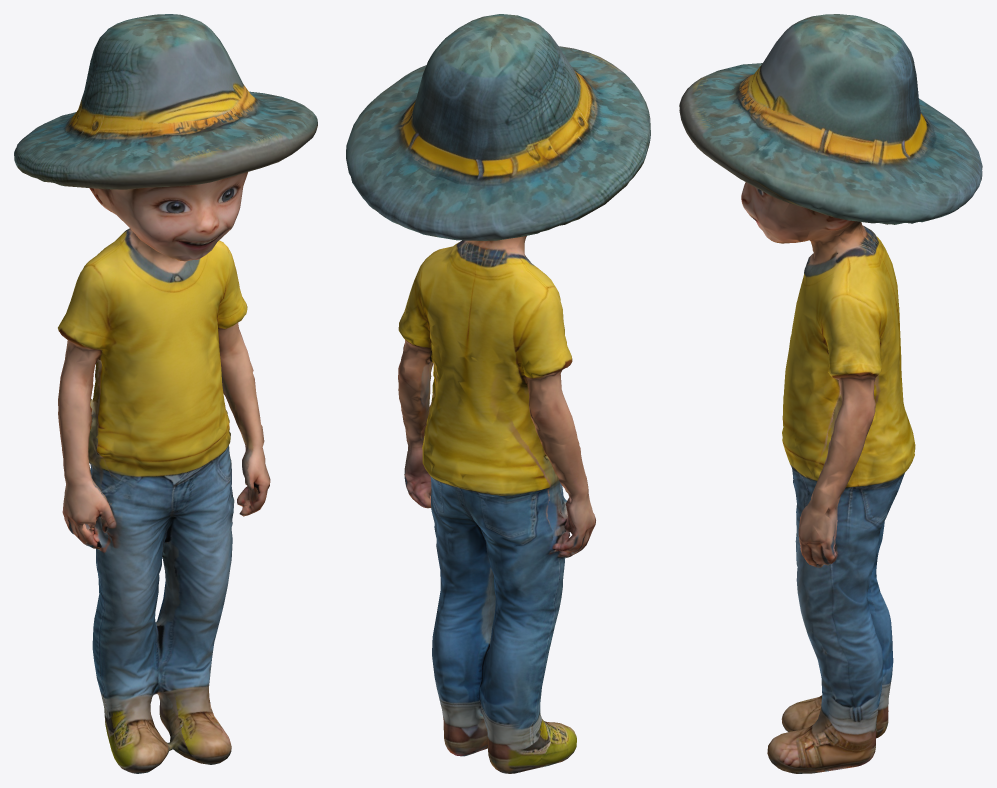
The model's file is Anak.glb.
3 views of the same model, side by side, from view 1: azimuth 30°, elevation 25°; view 2: azimuth 150°, elevation 25°; view 3: azimuth 270°, elevation 25° (orthographic).
Size of the model in its own units: 0.4578 by 1.2 by 0.4481.
1 material, 1 textured.
